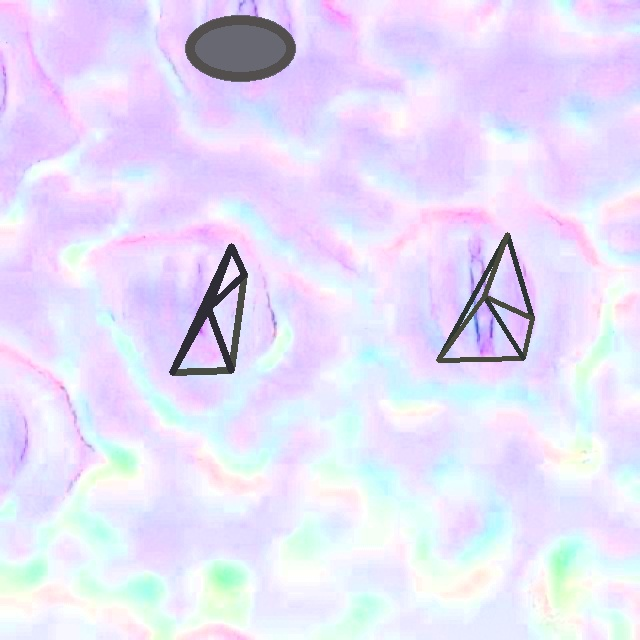open: (436, 233, 533, 360), (169, 243, 247, 372), (186, 16, 295, 81)
